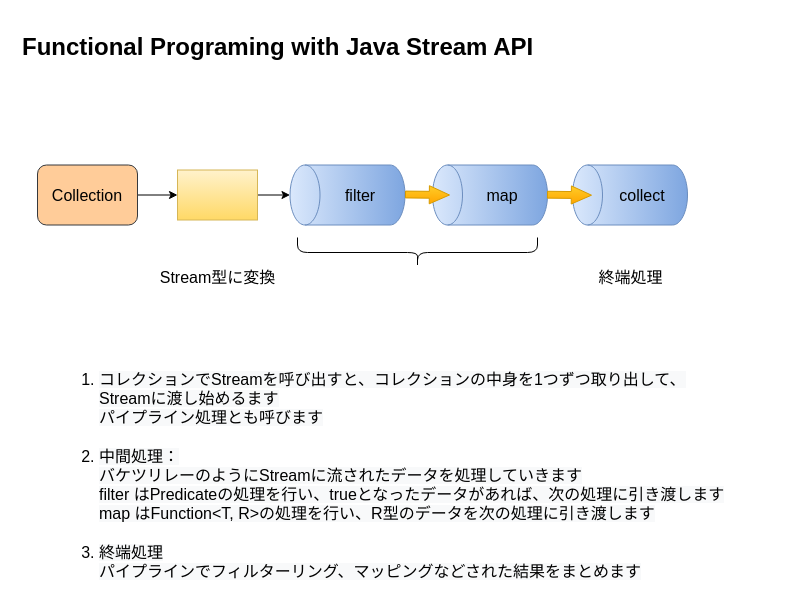
Some shapes in this 794 by 614 pixel diagram are drawn without their labels. Here are the shapes that lost their labels. From the top down, the centre of each, then its label:
[217,194]: Stream
[417,252]: 中間処理
